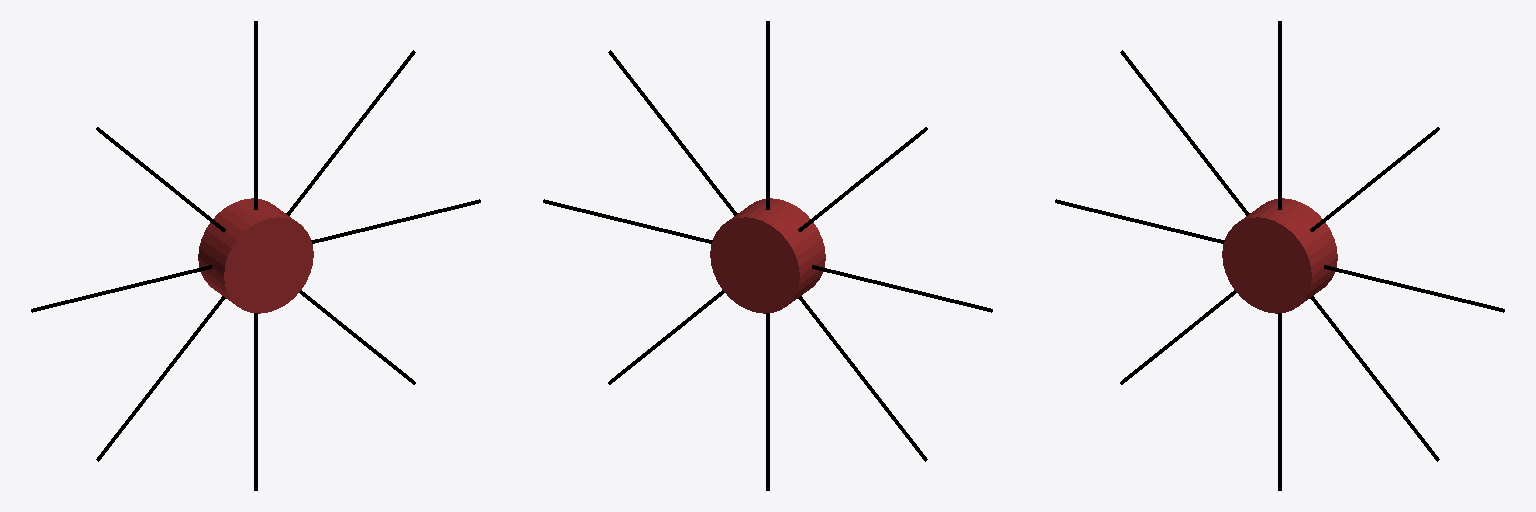
The robot description file, URDF, robot "RimlessWheel":
<?xml version="1.0" ?>
<!-- =================================================================================== -->
<!-- |    This document was autogenerated by xacro from RimlessWheel.xacro             | -->
<!-- |    EDITING THIS FILE BY HAND IS NOT RECOMMENDED                                 | -->
<!-- =================================================================================== -->
<robot name="RimlessWheel" xmlns="https://drake.mit.edu" xmlns:xsi="http://www.w3.org/2001/XMLSchema-instance" xsi:schemaLocation="https://drake.mit.edu ../../doc/drakeURDF.xsd">
  <!-- I have to add rotational inertia about the COM to the model to have a well-defined flight phase, even though the ideal rimless wheel model does not have it. -->
  <link name="hub">
    <inertial>
      <mass value="1"/>
      <inertia ixx="1" ixy="0" ixz="0" iyy="1" iyz="0" izz="1"/>
    </inertial>
    <visual>
      <origin rpy="1.5708 0 0"/>
      <geometry>
        <cylinder length=".2" radius=".2"/>
      </geometry>
      <material>
        <color rgba=".6 .2 .2 1"/>
      </material>
    </visual>
  </link>
  <link name="spoke1">
    <visual>
      <origin rpy="0 0 0" xyz="0 0 -0.5"/>
      <geometry>
        <cylinder length="1" radius="0.0075"/>
      </geometry>
      <material>
        <color rgba=".0 .0 .0 1"/>
      </material>
    </visual>
    <collision>
      <origin rpy="0 0 0" xyz="0 0 -1.0"/>
      <geometry>
        <sphere radius="0"/>
      </geometry>
    </collision>
  </link>
  <joint name="spoke1_weld" type="fixed">
    <origin rpy="0 0.0 0" xyz="0 0 0"/>
    <parent link="hub"/>
    <child link="spoke1"/>
  </joint>
  <link name="spoke2">
    <visual>
      <origin rpy="0 0 0" xyz="0 0 -0.5"/>
      <geometry>
        <cylinder length="1" radius="0.0075"/>
      </geometry>
      <material>
        <color rgba=".0 .0 .0 1"/>
      </material>
    </visual>
    <collision>
      <origin rpy="0 0 0" xyz="0 0 -1.0"/>
      <geometry>
        <sphere radius="0"/>
      </geometry>
    </collision>
  </link>
  <joint name="spoke2_weld" type="fixed">
    <origin rpy="0 0.7854 0" xyz="0 0 0"/>
    <parent link="hub"/>
    <child link="spoke2"/>
  </joint>
  <link name="spoke3">
    <visual>
      <origin rpy="0 0 0" xyz="0 0 -0.5"/>
      <geometry>
        <cylinder length="1" radius="0.0075"/>
      </geometry>
      <material>
        <color rgba=".0 .0 .0 1"/>
      </material>
    </visual>
    <collision>
      <origin rpy="0 0 0" xyz="0 0 -1.0"/>
      <geometry>
        <sphere radius="0"/>
      </geometry>
    </collision>
  </link>
  <joint name="spoke3_weld" type="fixed">
    <origin rpy="0 1.5708 0" xyz="0 0 0"/>
    <parent link="hub"/>
    <child link="spoke3"/>
  </joint>
  <link name="spoke4">
    <visual>
      <origin rpy="0 0 0" xyz="0 0 -0.5"/>
      <geometry>
        <cylinder length="1" radius="0.0075"/>
      </geometry>
      <material>
        <color rgba=".0 .0 .0 1"/>
      </material>
    </visual>
    <collision>
      <origin rpy="0 0 0" xyz="0 0 -1.0"/>
      <geometry>
        <sphere radius="0"/>
      </geometry>
    </collision>
  </link>
  <joint name="spoke4_weld" type="fixed">
    <origin rpy="0 2.3562 0" xyz="0 0 0"/>
    <parent link="hub"/>
    <child link="spoke4"/>
  </joint>
  <link name="spoke5">
    <visual>
      <origin rpy="0 0 0" xyz="0 0 -0.5"/>
      <geometry>
        <cylinder length="1" radius="0.0075"/>
      </geometry>
      <material>
        <color rgba=".0 .0 .0 1"/>
      </material>
    </visual>
    <collision>
      <origin rpy="0 0 0" xyz="0 0 -1.0"/>
      <geometry>
        <sphere radius="0"/>
      </geometry>
    </collision>
  </link>
  <joint name="spoke5_weld" type="fixed">
    <origin rpy="0 3.1416 0" xyz="0 0 0"/>
    <parent link="hub"/>
    <child link="spoke5"/>
  </joint>
  <link name="spoke6">
    <visual>
      <origin rpy="0 0 0" xyz="0 0 -0.5"/>
      <geometry>
        <cylinder length="1" radius="0.0075"/>
      </geometry>
      <material>
        <color rgba=".0 .0 .0 1"/>
      </material>
    </visual>
    <collision>
      <origin rpy="0 0 0" xyz="0 0 -1.0"/>
      <geometry>
        <sphere radius="0"/>
      </geometry>
    </collision>
  </link>
  <joint name="spoke6_weld" type="fixed">
    <origin rpy="0 3.927 0" xyz="0 0 0"/>
    <parent link="hub"/>
    <child link="spoke6"/>
  </joint>
  <link name="spoke7">
    <visual>
      <origin rpy="0 0 0" xyz="0 0 -0.5"/>
      <geometry>
        <cylinder length="1" radius="0.0075"/>
      </geometry>
      <material>
        <color rgba=".0 .0 .0 1"/>
      </material>
    </visual>
    <collision>
      <origin rpy="0 0 0" xyz="0 0 -1.0"/>
      <geometry>
        <sphere radius="0"/>
      </geometry>
    </collision>
  </link>
  <joint name="spoke7_weld" type="fixed">
    <origin rpy="0 4.7124 0" xyz="0 0 0"/>
    <parent link="hub"/>
    <child link="spoke7"/>
  </joint>
  <link name="spoke8">
    <visual>
      <origin rpy="0 0 0" xyz="0 0 -0.5"/>
      <geometry>
        <cylinder length="1" radius="0.0075"/>
      </geometry>
      <material>
        <color rgba=".0 .0 .0 1"/>
      </material>
    </visual>
    <collision>
      <origin rpy="0 0 0" xyz="0 0 -1.0"/>
      <geometry>
        <sphere radius="0"/>
      </geometry>
    </collision>
  </link>
  <joint name="spoke8_weld" type="fixed">
    <origin rpy="0 5.4978 0" xyz="0 0 0"/>
    <parent link="hub"/>
    <child link="spoke8"/>
  </joint>
</robot>

--- Render facts (derived) ---
3 views of the same robot in one strip: view 1: azimuth 30°, elevation 25°; view 2: azimuth 150°, elevation 25°; view 3: azimuth 330°, elevation 25° (orthographic).
Robot: RimlessWheel — 9 links, 8 joints (8 fixed); root link hub; default pose: every joint at zero.
Visible links, largest first — view 1: hub, spoke6, spoke2, spoke5, spoke3, spoke1, spoke7, spoke4, spoke8; view 2: hub, spoke6, spoke2, spoke5, spoke3, spoke1, spoke7, spoke4, spoke8; view 3: hub, spoke4, spoke8, spoke5, spoke7, spoke1, spoke3, spoke6, spoke2.
Link boxes in pixels (x1,y1,x2,y2): hub: (198,198,313,313); spoke6: (286,50,415,215); spoke2: (96,296,225,461); spoke5: (254,21,257,209); spoke3: (31,265,211,312); spoke1: (254,313,257,490); spoke7: (311,199,480,243); spoke4: (96,127,225,231); spoke8: (299,290,415,384); hub: (710,198,825,313); spoke6: (608,50,737,215); spoke2: (798,296,927,461); spoke5: (766,21,769,209); spoke3: (812,265,992,312); spoke1: (766,313,769,490); spoke7: (543,199,712,243); spoke4: (798,127,927,231); spoke8: (608,290,724,384); hub: (1222,198,1337,313); spoke4: (1120,50,1249,215); spoke8: (1310,296,1439,461); spoke5: (1278,21,1281,209); spoke7: (1324,265,1504,312); spoke1: (1278,313,1281,490); spoke3: (1055,199,1224,243); spoke6: (1310,127,1439,231); spoke2: (1120,290,1236,384).
Size in the robot's own frame: 2 by 0.2 by 2 metres.
Geometry: primitives only (box / cylinder / sphere), no mesh files.